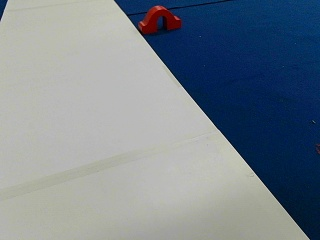bridge: (140, 6, 180, 31)
